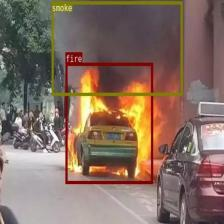fire: (65, 63, 153, 183)
smoke: (51, 1, 182, 95)
